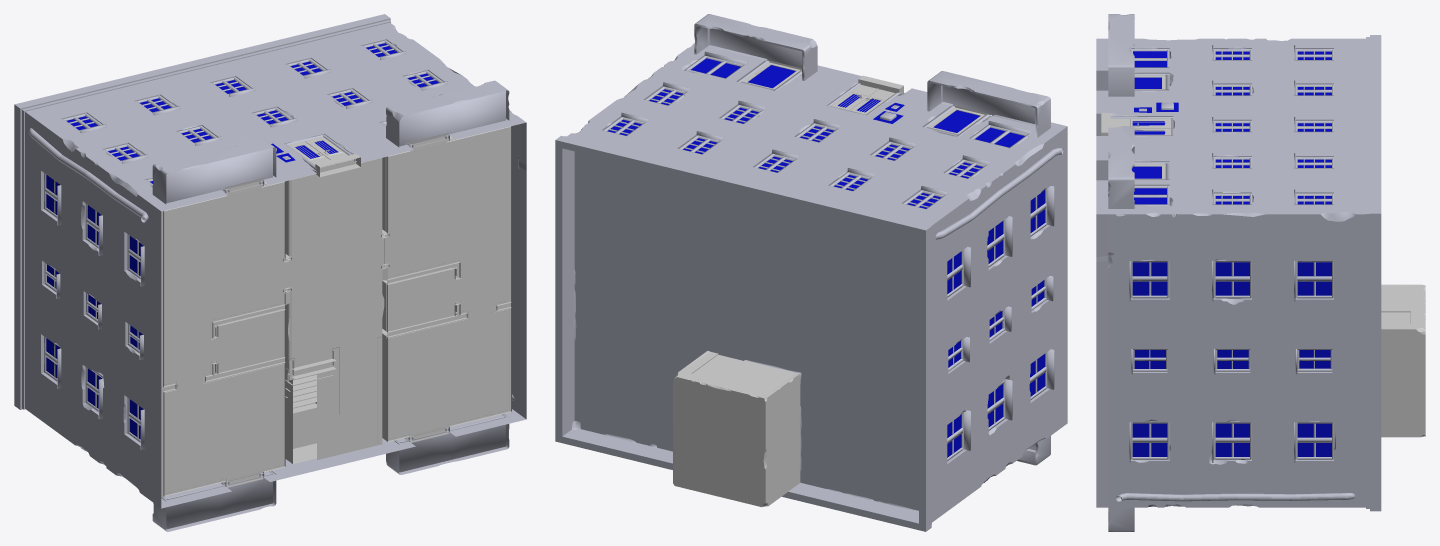
The model's file is Building_1.fbx.
3 views of the same model, side by side, from view 1: azimuth 30°, elevation 25°; view 2: azimuth 150°, elevation 25°; view 3: azimuth 270°, elevation 25° (orthographic).
Parts seen in each view (by area): view 1: outerwall, E0, Transp; view 2: outerwall, E0, Transp, doorP2, doorP1, door_roof; view 3: outerwall, Transp, E0, doorEntry_L, doorP2, doorP1.
Boxes of the visible parts, <box> form: outerwall: <box>14,14,526,531</box>; E0: <box>161,126,511,496</box>; Transp: <box>46,43,438,439</box>; outerwall: <box>555,14,1067,531</box>; E0: <box>673,60,989,507</box>; Transp: <box>607,58,1045,457</box>; doorP2: <box>742,62,800,89</box>; doorP1: <box>928,107,984,135</box>; door_roof: <box>693,355,743,379</box>; outerwall: <box>1096,14,1381,531</box>; Transp: <box>1132,51,1331,456</box>; E0: <box>1101,113,1425,437</box>; doorEntry_L: <box>1110,119,1171,128</box>; doorP2: <box>1132,164,1165,179</box>; doorP1: <box>1134,75,1165,89</box>.
Size of the model in its own units: 2049 by 1853 by 1561.
